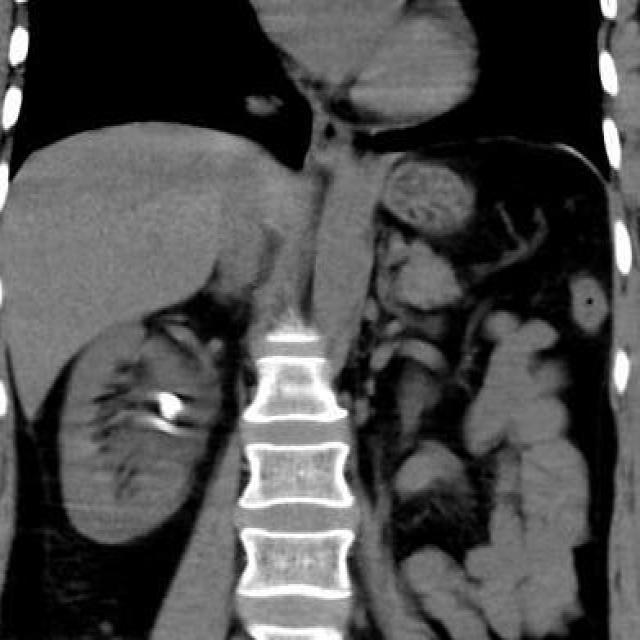Tas_Var: (158, 390, 184, 416)
